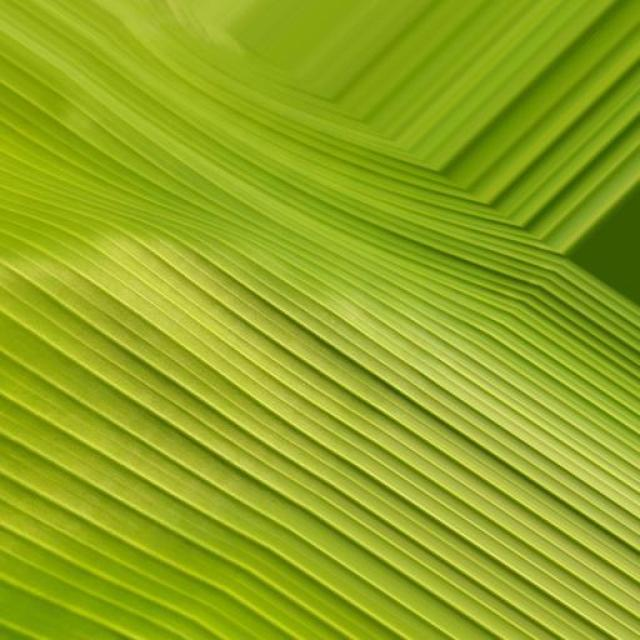Black_leaf_spot: (0, 0, 607, 618)
